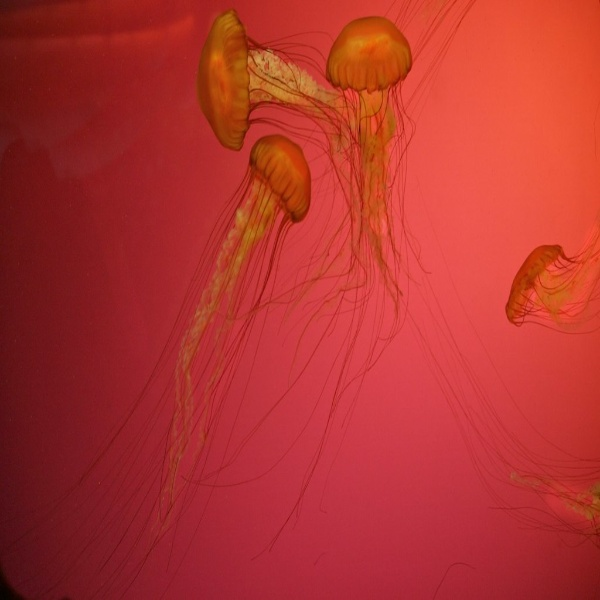Jellyfish: (3, 136, 312, 599), (192, 8, 396, 280), (325, 14, 433, 320), (506, 227, 599, 334)
